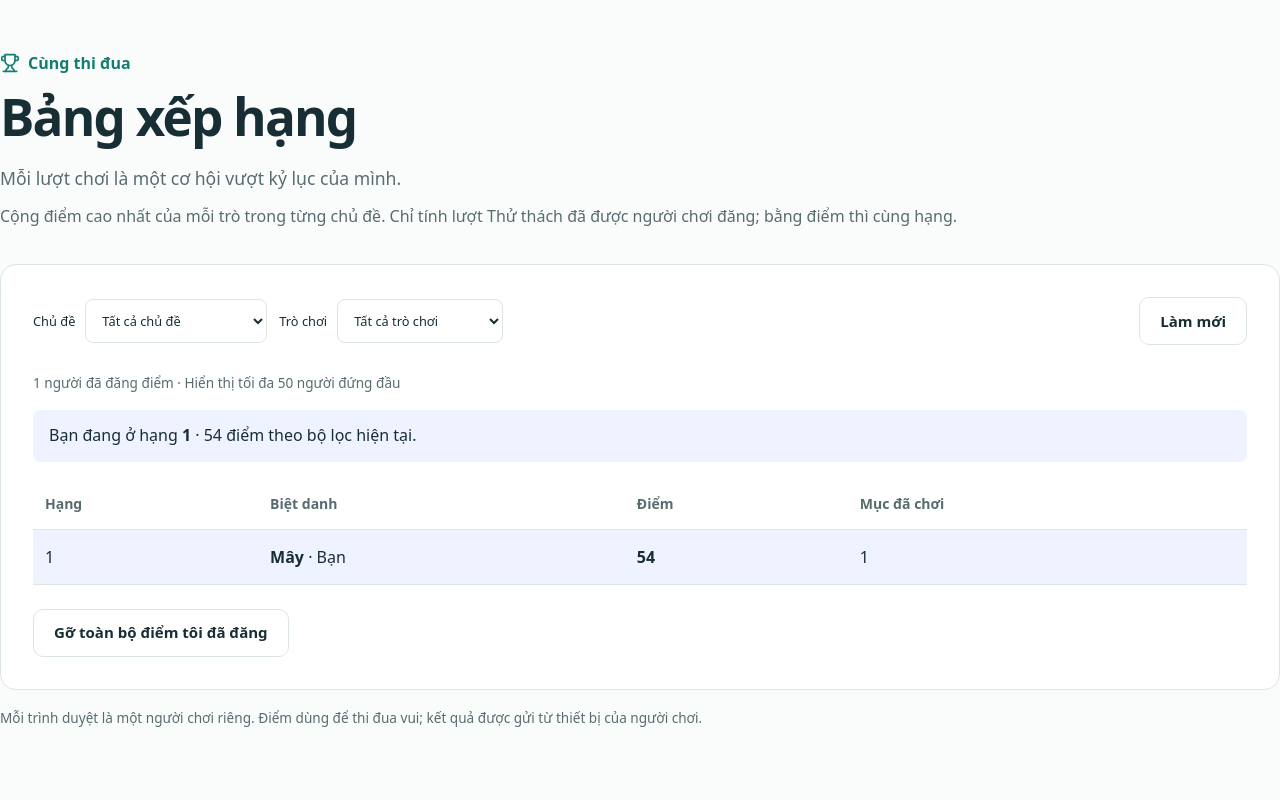
shared leaderboard › loads real entries, filters and removes only after confirmation
The width and height of the screenshot is (1280, 800).
expect the cell "54" is shown: met, box [625,530,848,584]
expect the text "Bạn đang ở hạng 1 · 54 điểm theo bộ lọc hiện tại." is shown: met, box [33,410,1247,462]
Select "My House" in the dropdown labelled "Chủ đề" at point(176, 321), box [85,299,267,343]
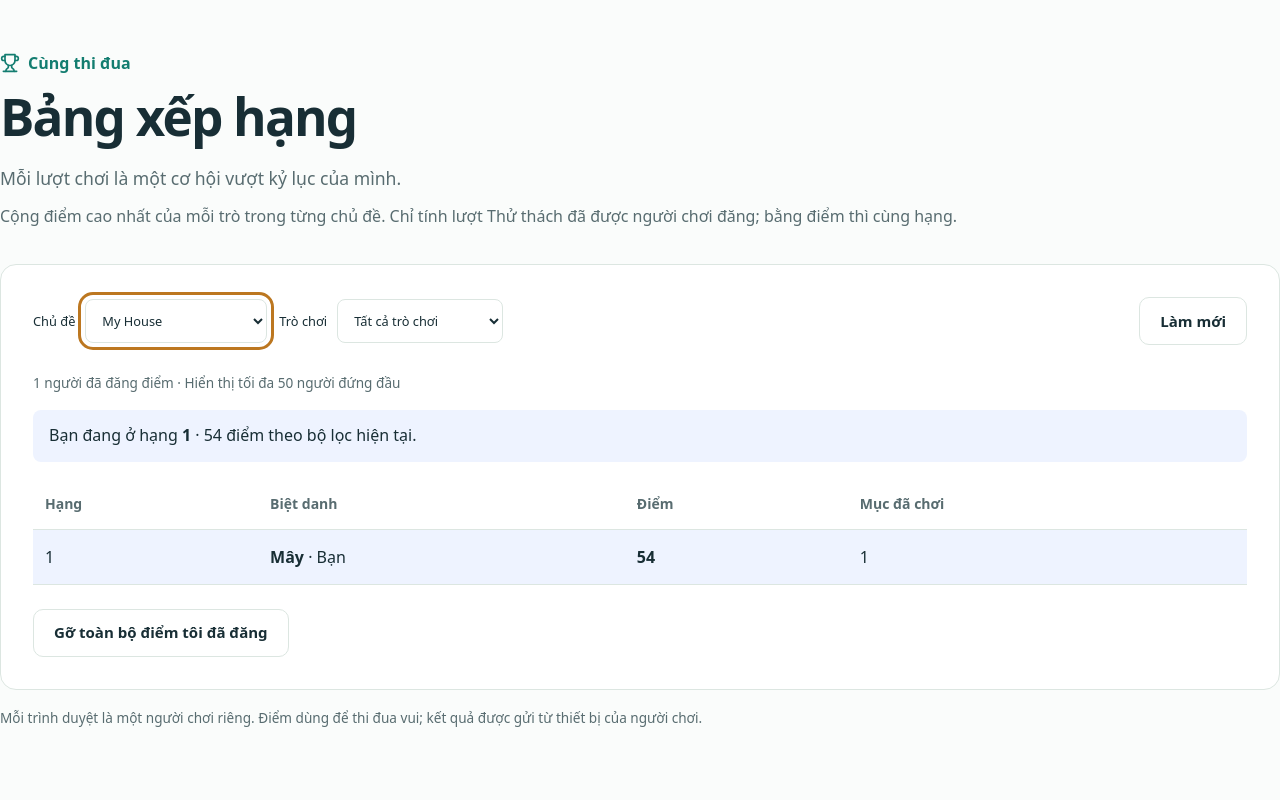
expect the cell "54" is shown: met, box [625,530,848,584]
Click the button "Gỡ toàn bộ điểm tôi đã đăng" at point(161, 633), box [33,609,289,657]
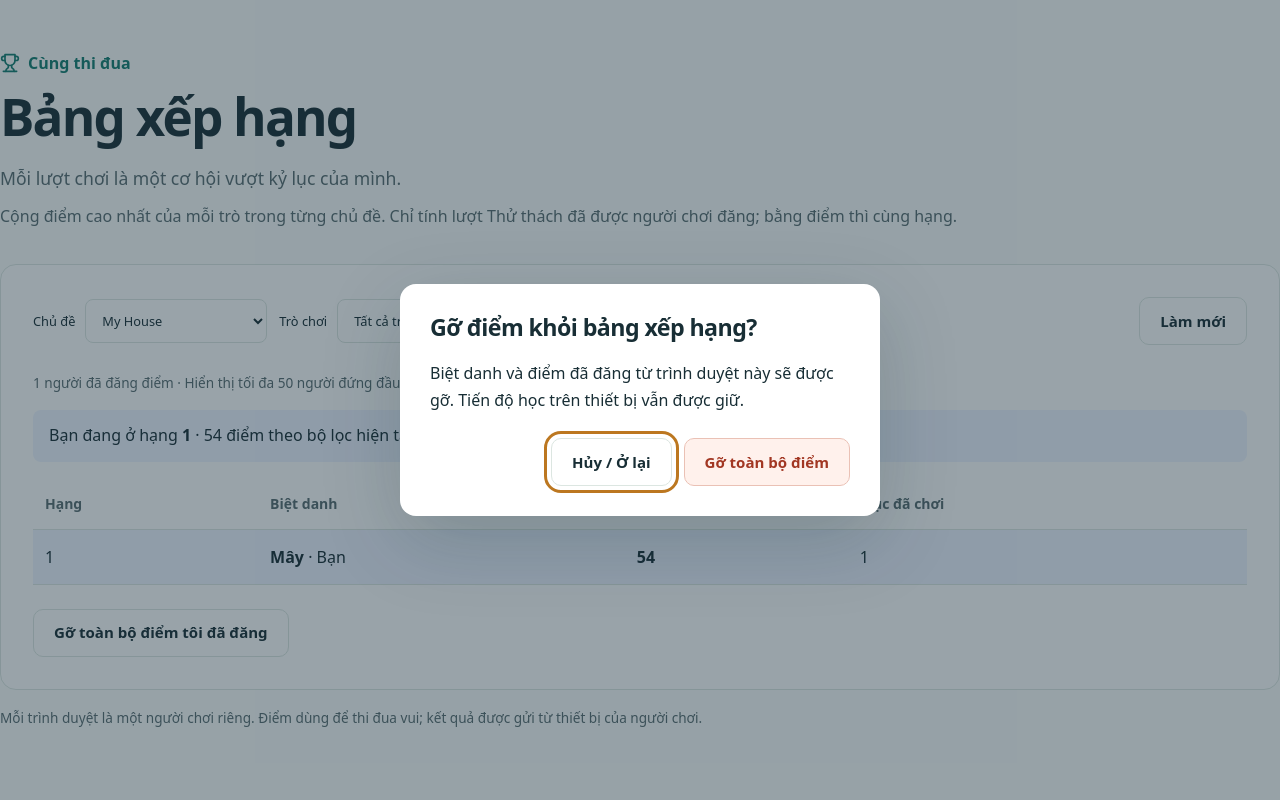
Click the button "Hủy / Ở lại" at point(611, 462), box [551,438,672,486]
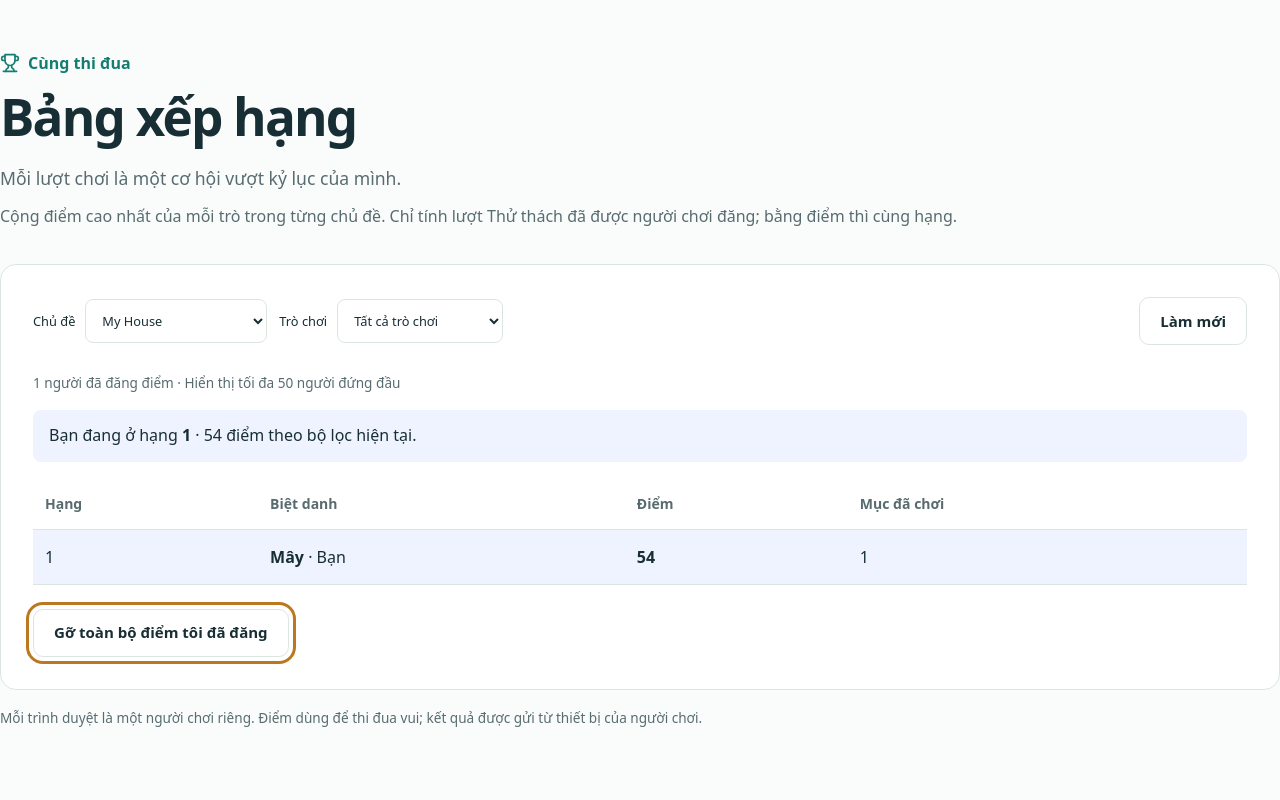
Click the button "Gỡ toàn bộ điểm tôi đã đăng" at point(161, 633), box [33,609,289,657]
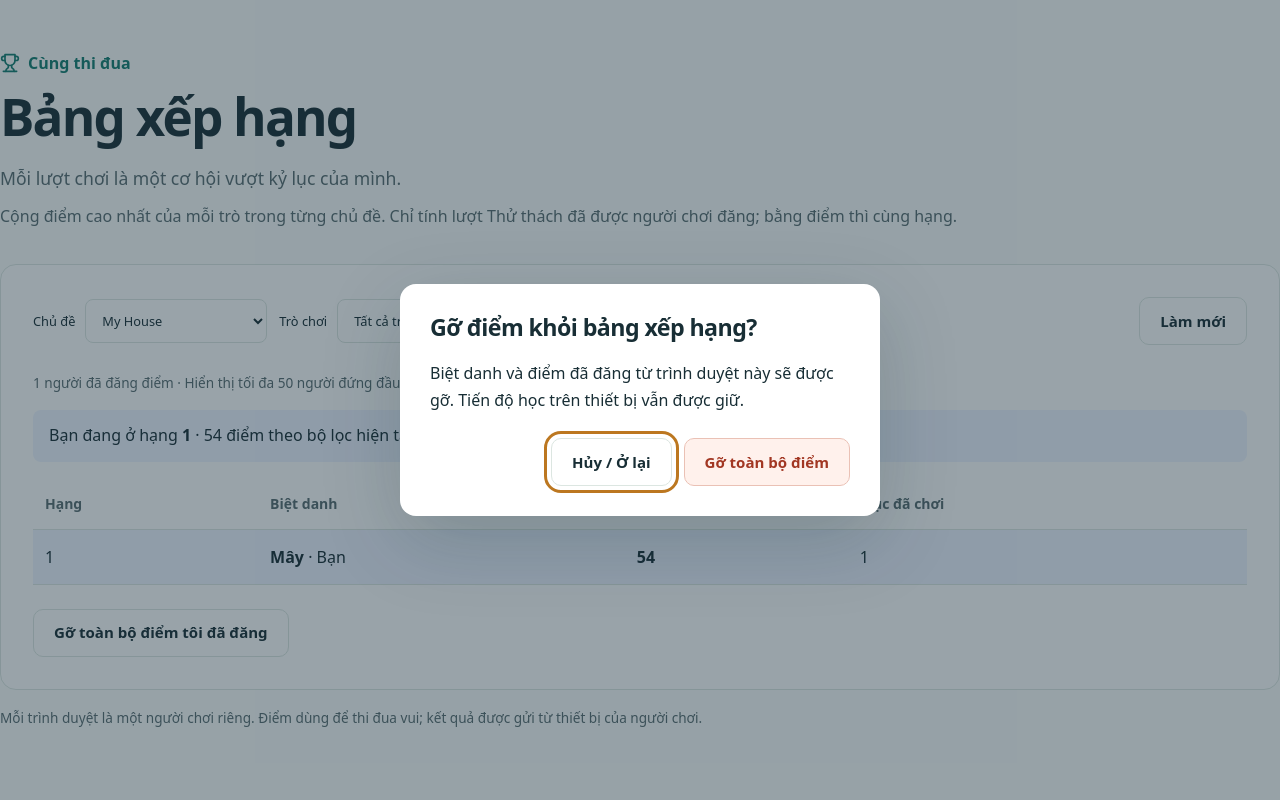
Click the button "Gỡ toàn bộ điểm" at point(767, 462), box [684,438,850,486]
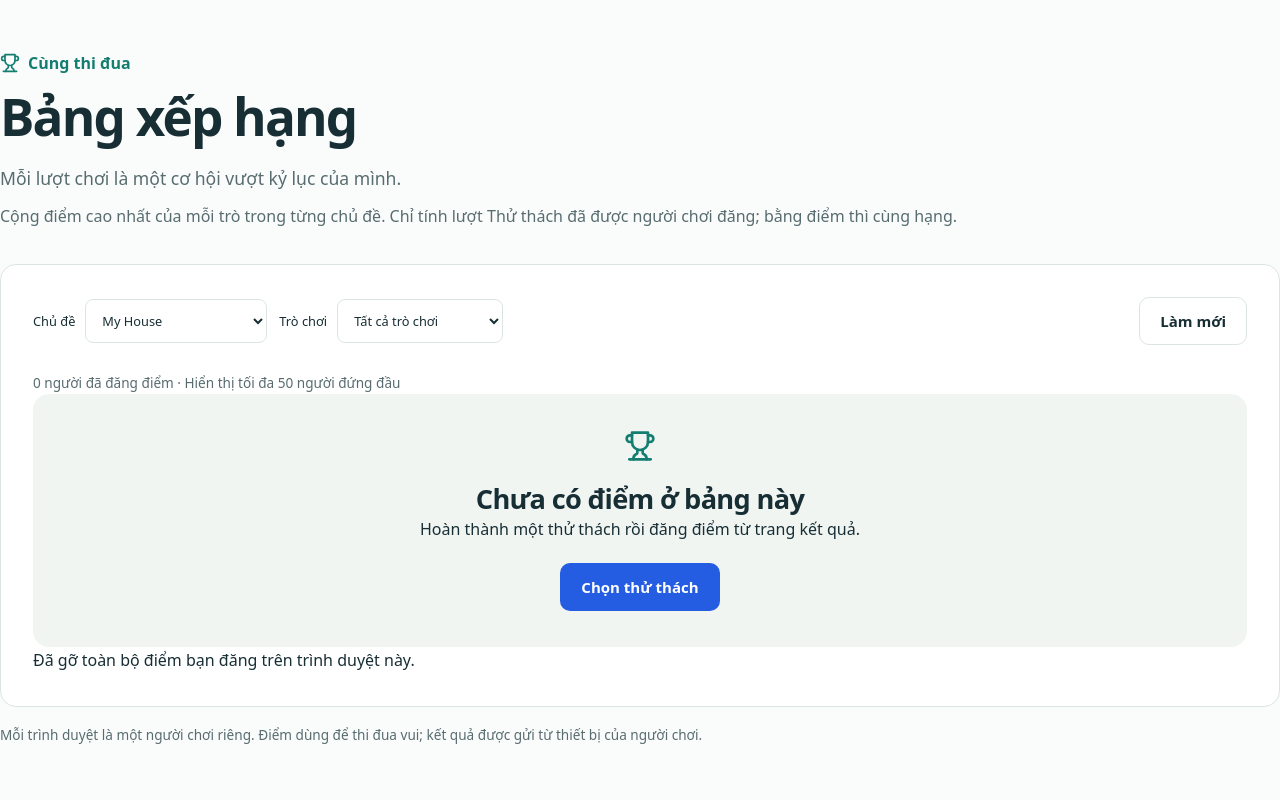
expect the heading "Chưa có điểm ở bảng này" is shown: met, box [476,480,804,517]
